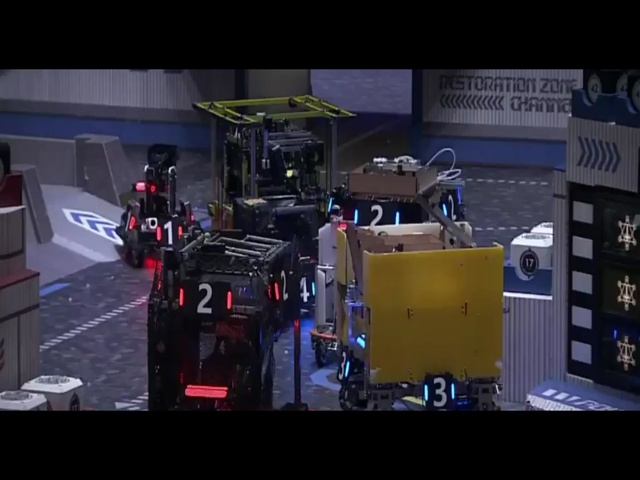bluePlate: (421, 374, 458, 410), (353, 200, 401, 227), (436, 191, 461, 222), (298, 275, 319, 307), (334, 348, 352, 385)
redPlate: (178, 277, 234, 325), (152, 217, 186, 249), (267, 269, 292, 308), (121, 205, 136, 239)
